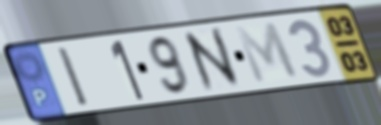1: (108, 38, 147, 102)
3: (286, 16, 334, 80)
9: (145, 33, 192, 96)
I: (54, 44, 93, 110)
M: (231, 20, 303, 87)
N: (179, 25, 246, 96)
